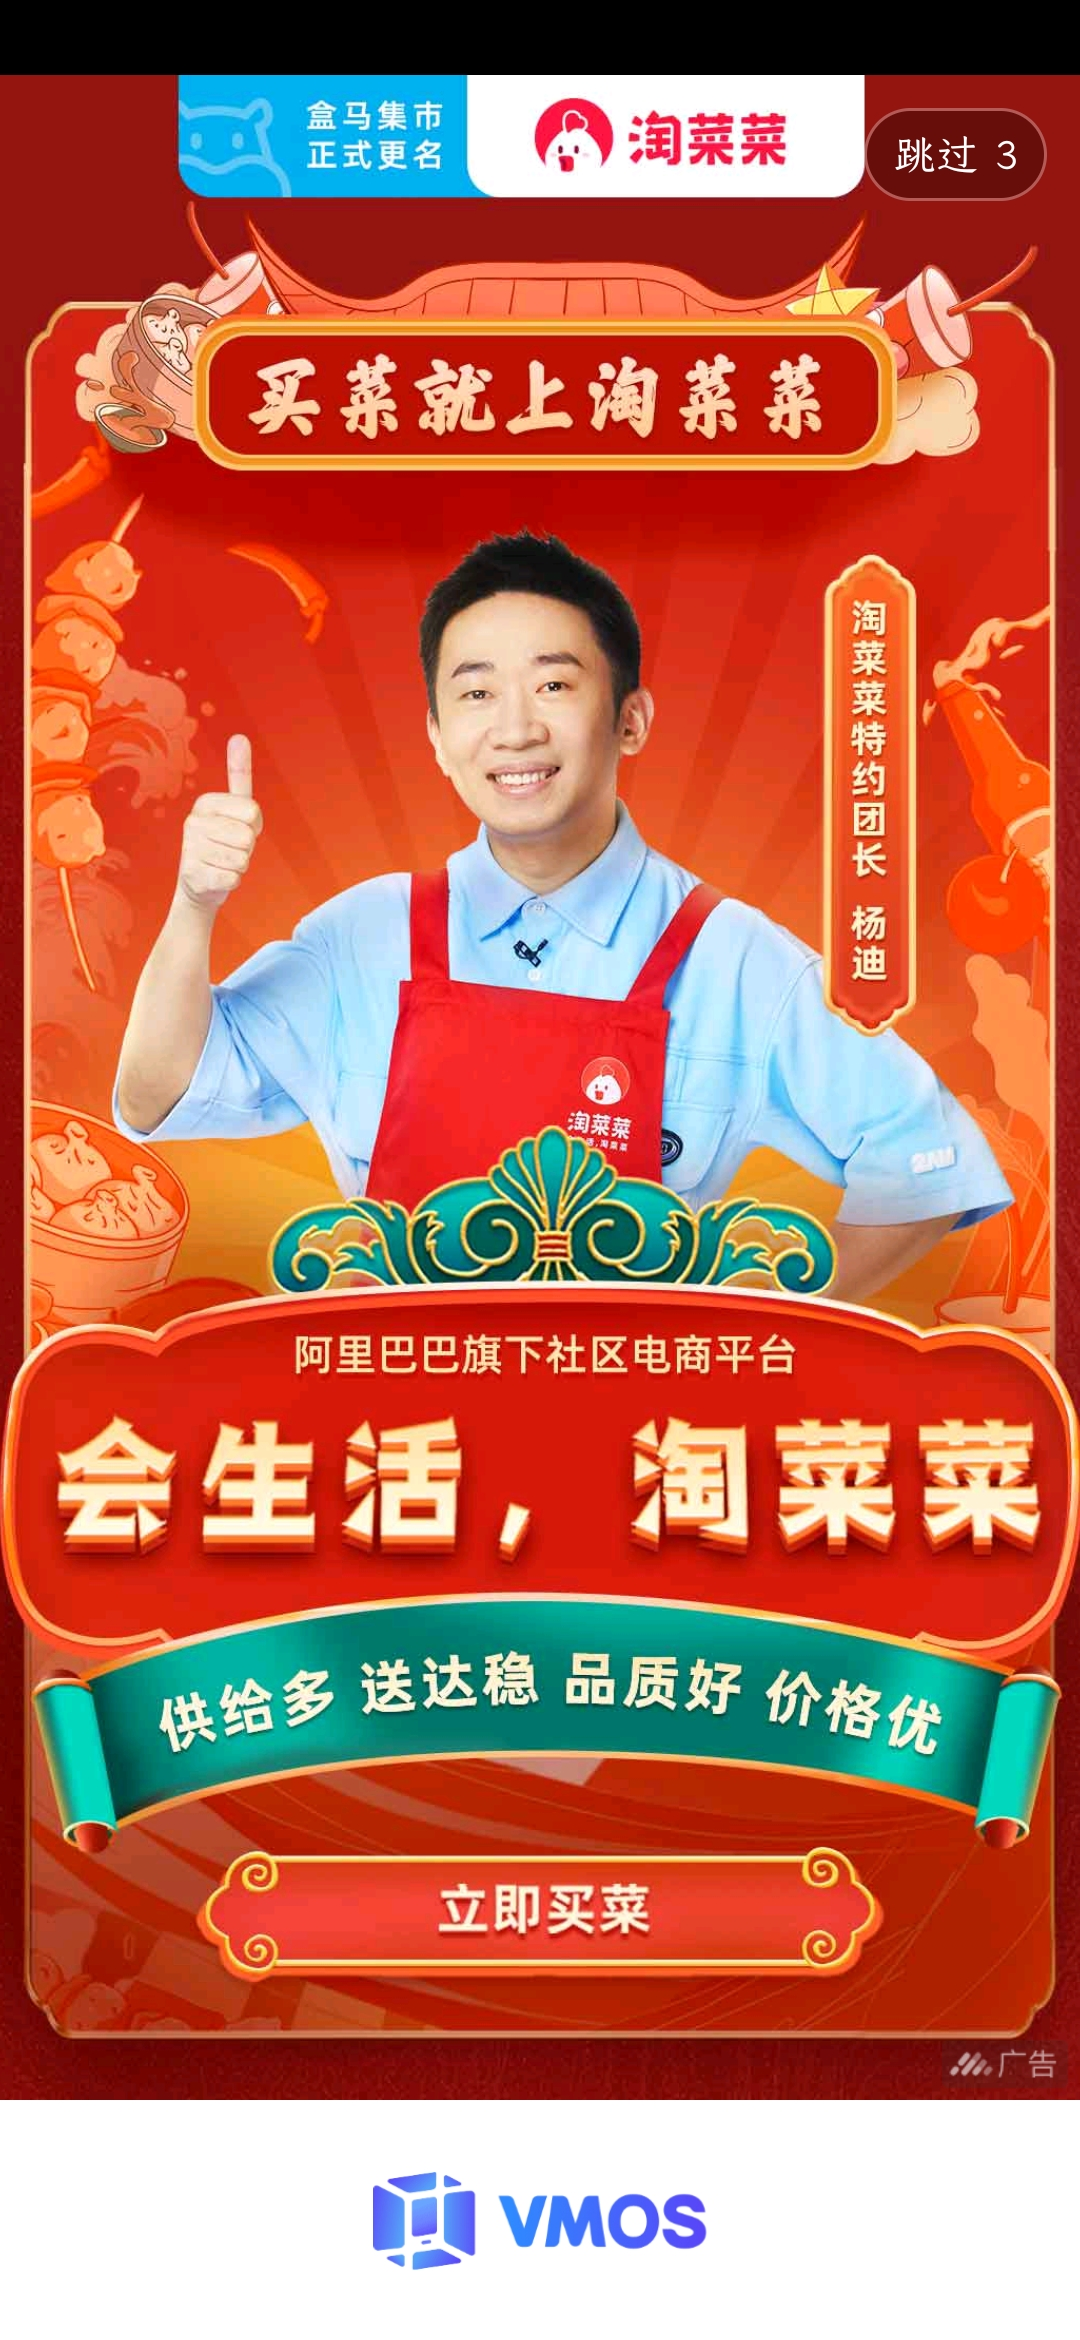skip: (874, 107, 1032, 187)
